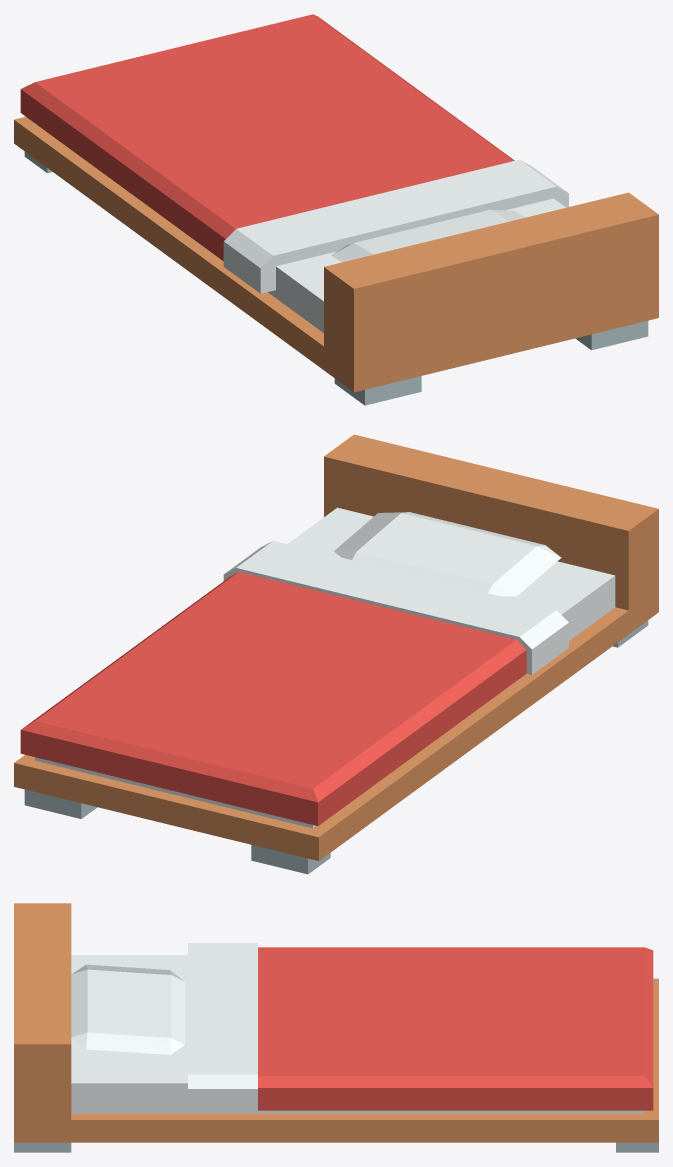
File: Bed_Single.fbx
The picture shows the model from 3 angles, top to bottom: view 1: azimuth 30°, elevation 25°; view 2: azimuth 150°, elevation 25°; view 3: azimuth 270°, elevation 25°; orthographic projection. The views are drawn at different scales.
Visible parts, largest first — view 1: bedSingle; view 2: bedSingle; view 3: bedSingle.
Part boxes in pixels (box(x1,y1,x2,y2)): bedSingle: box(14, 14, 658, 405); bedSingle: box(14, 434, 658, 874); bedSingle: box(14, 903, 658, 1152).
Size of the model in its own units: 101 by 37.5 by 194.
